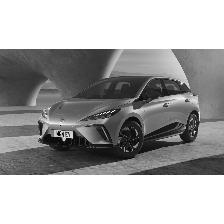EV: (38, 76, 202, 160)
